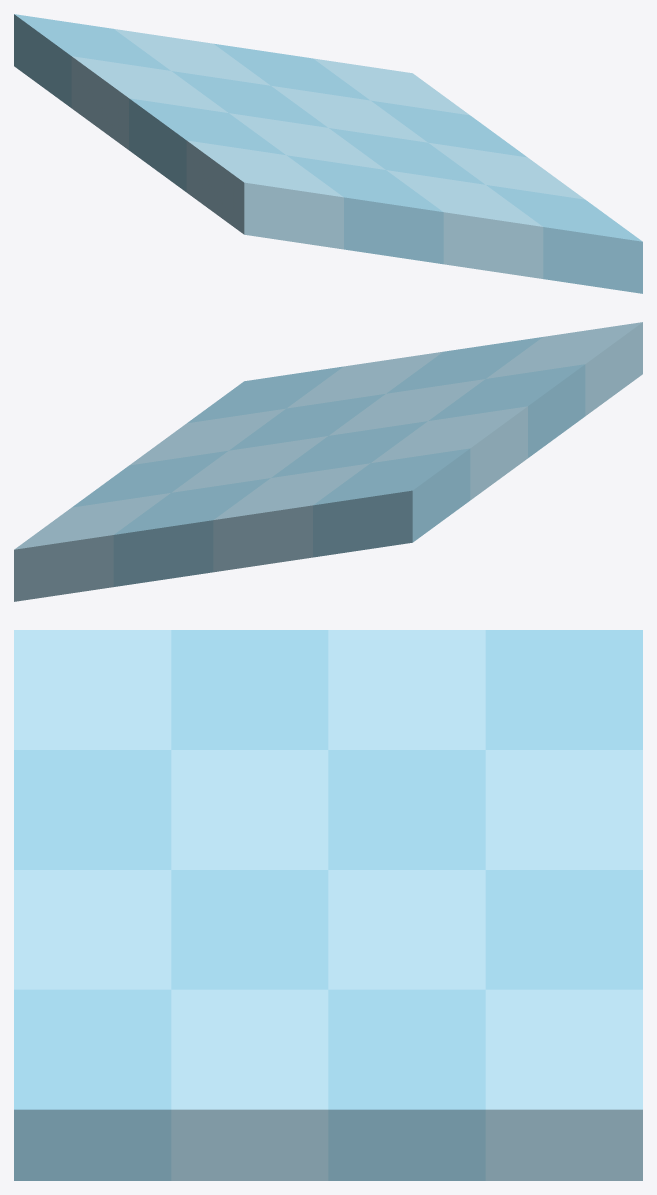
File: inc3.fbx
The picture shows the model from 3 angles, top to bottom: view 1: azimuth 30°, elevation 25°; view 2: azimuth 150°, elevation 25°; view 3: azimuth 270°, elevation 25°; orthographic projection. The views are drawn at different scales.
Visible parts, largest first — view 1: Cube.003; view 2: Cube.003; view 3: Cube.003.
Boxes of the visible parts, <box> form: Cube.003: <box>14,14,642,293</box>; Cube.003: <box>14,322,642,601</box>; Cube.003: <box>14,630,642,1180</box>.
Size of the model in its own units: 8 by 4 by 8.
